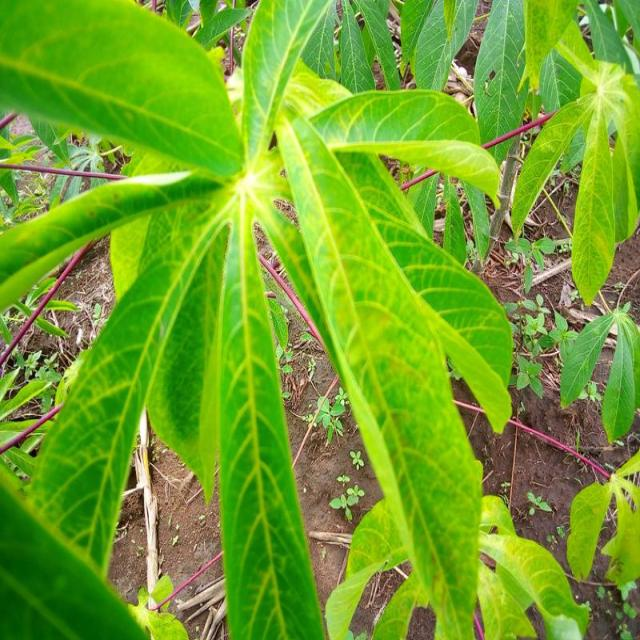cassava leaf: (1, 0, 515, 638)
